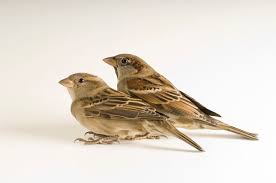hsparrow: (102, 51, 260, 140), (56, 72, 209, 151)
